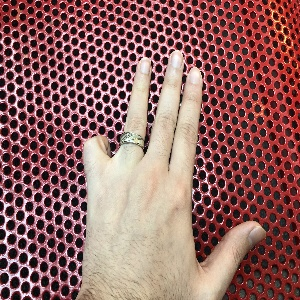hand: (83, 52, 265, 299)
